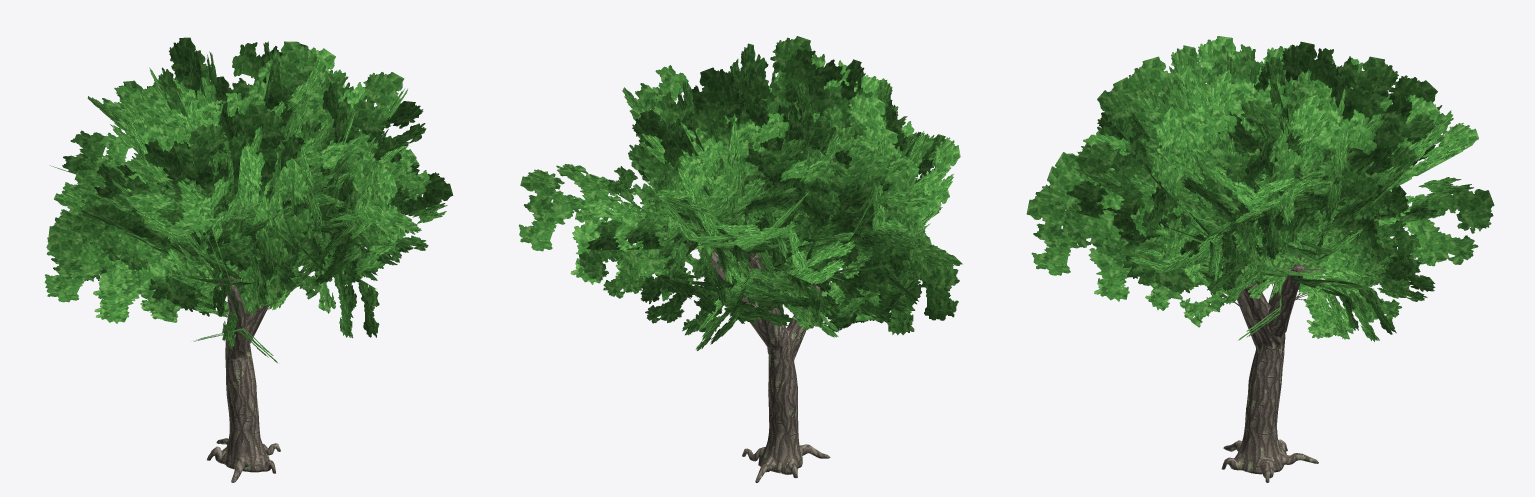
The model's file is environment_elm2_v57.fbx.
3 views of the same model, side by side, from view 1: azimuth 30°, elevation 25°; view 2: azimuth 150°, elevation 25°; view 3: azimuth 270°, elevation 25° (orthographic). The views are drawn at different scales.
Parts seen in each view (by area): view 1: environment_elm2_v57_lod0; view 2: environment_elm2_v57_lod0; view 3: environment_elm2_v57_lod0.
Boxes of the visible parts, x1,y1,x2,y2 form: environment_elm2_v57_lod0: [44, 37, 453, 482]; environment_elm2_v57_lod0: [519, 36, 962, 482]; environment_elm2_v57_lod0: [1026, 36, 1494, 482].
Size of what is drawn, in the model's own units: 2800 by 2432 by 2650.
Materials: 2 (2 with a texture image).
